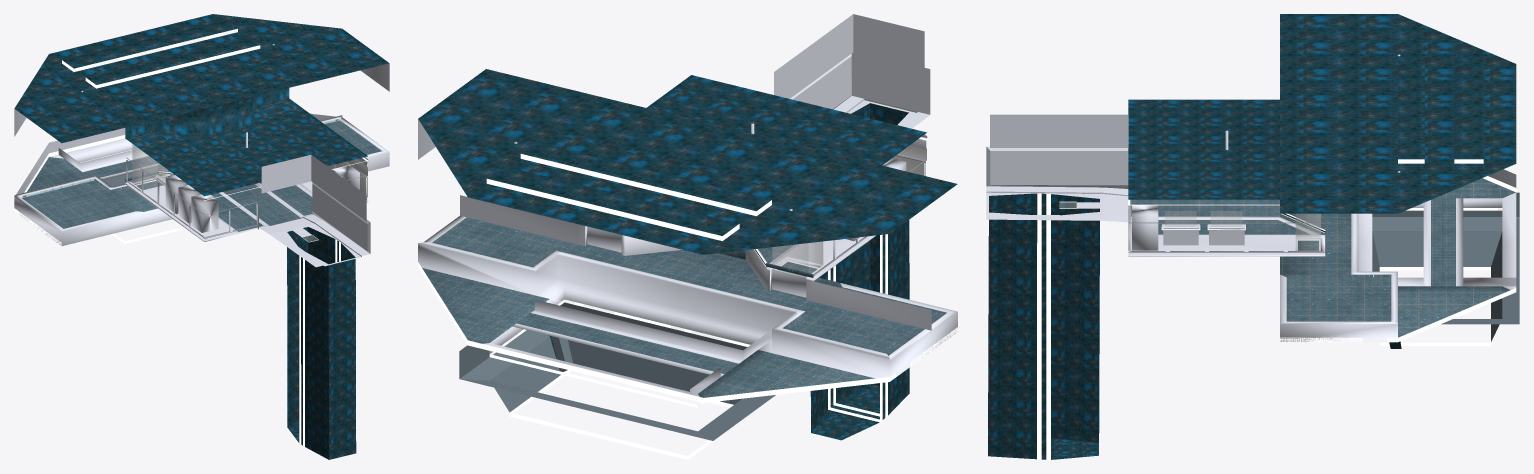
Rendered from space-station-vr2.glb.
The picture shows the model from 3 angles, left to right: view 1: azimuth 30°, elevation 25°; view 2: azimuth 150°, elevation 25°; view 3: azimuth 270°, elevation 25°; orthographic projection. The views are drawn at different scales.
Visible parts, largest first — view 1: SpaceStation; view 2: SpaceStation; view 3: SpaceStation.
Part boxes in pixels (x1,y1,x2,y2): SpaceStation: (14, 14, 389, 459); SpaceStation: (418, 14, 957, 459); SpaceStation: (986, 14, 1519, 459).
Bounding box in the file's own units: 24 × 19.03 × 27.09.
6 materials, 3 textured.
